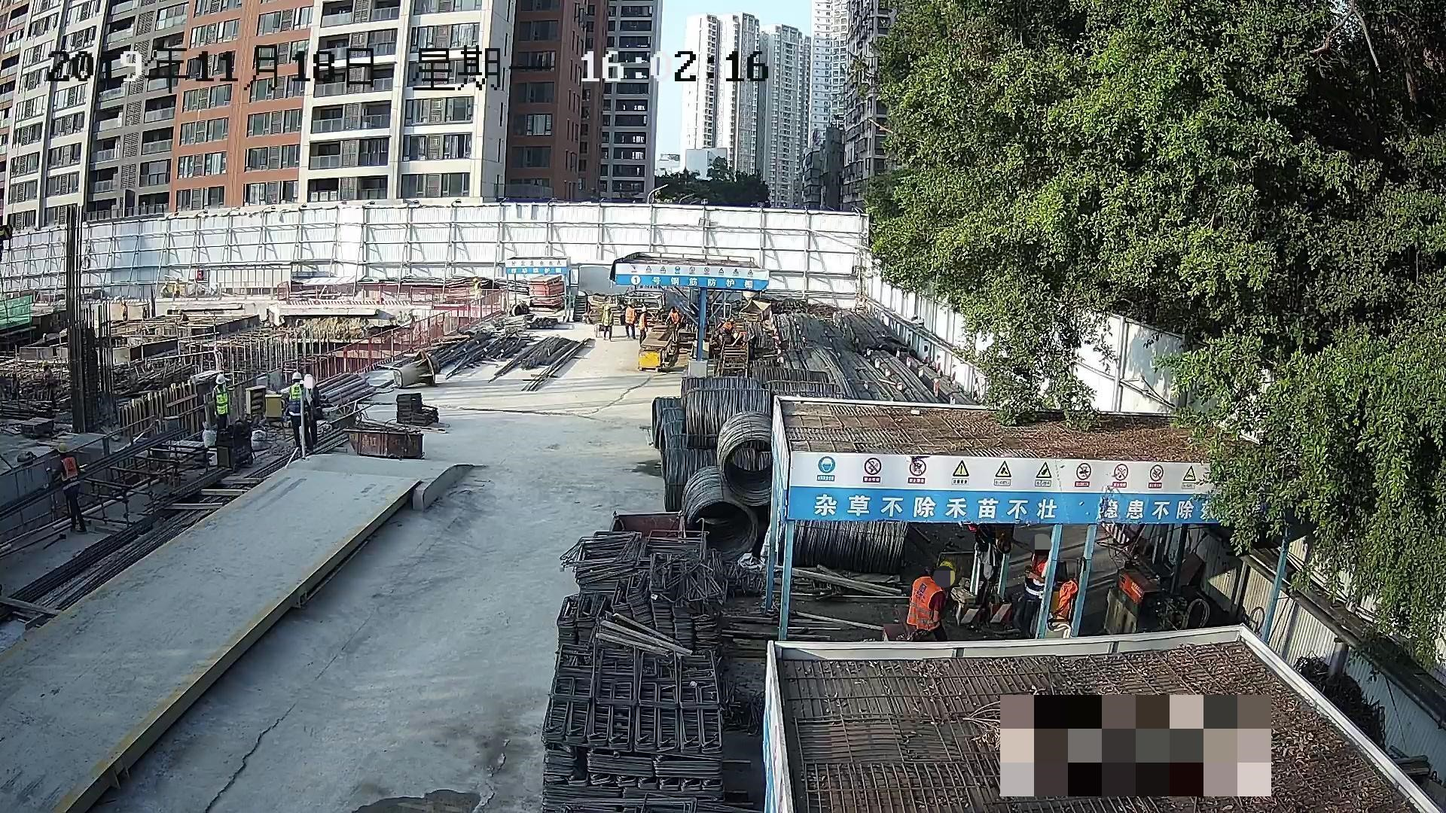hat: (935, 558, 956, 583), (57, 443, 69, 457), (304, 374, 314, 388), (291, 371, 302, 383), (215, 374, 226, 385)
head: (1032, 535, 1051, 556)
person: (40, 442, 88, 534), (906, 559, 958, 643), (1011, 537, 1052, 639), (288, 371, 313, 453), (304, 374, 320, 443), (212, 373, 230, 432)
